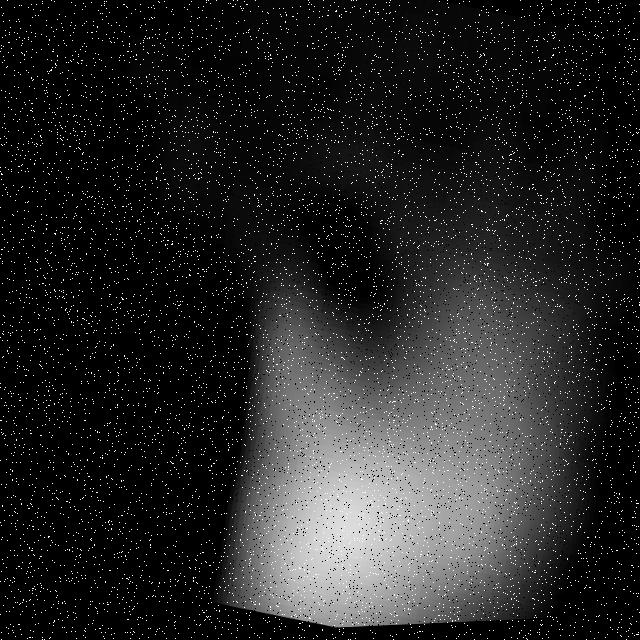person: (163, 167, 640, 636)
